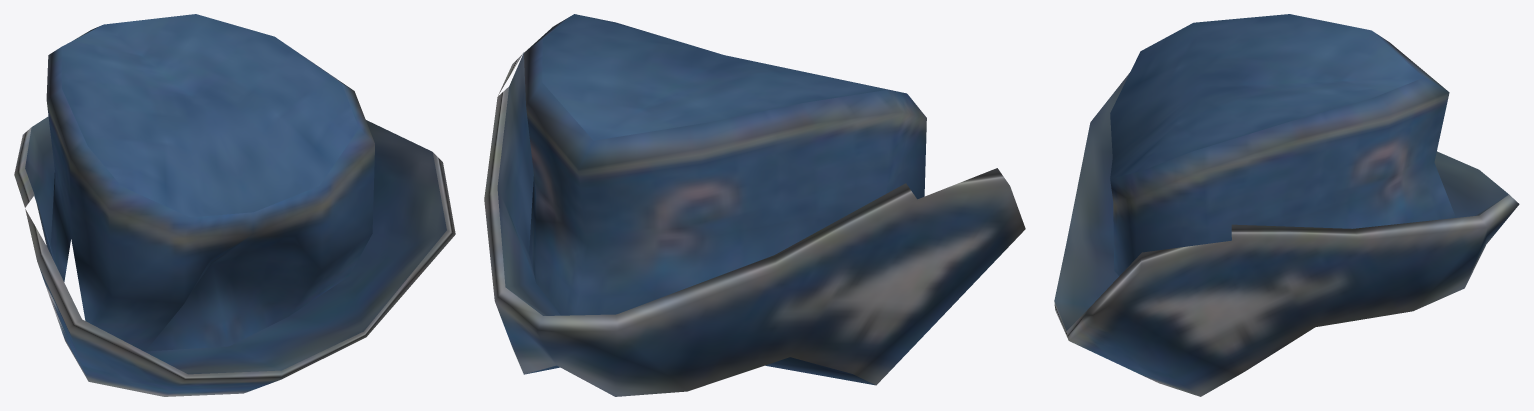
The model's file is pvpHelmet.glb.
3 views of the same model, side by side, from view 1: azimuth 30°, elevation 25°; view 2: azimuth 150°, elevation 25°; view 3: azimuth 270°, elevation 25° (orthographic). The views are drawn at different scales.
Parts seen in each view (by area): view 1: pvpHelmet; view 2: pvpHelmet; view 3: pvpHelmet.
Part boxes in pixels (x1,y1,x2,y2): pvpHelmet: [14, 14, 455, 396]; pvpHelmet: [484, 14, 1025, 396]; pvpHelmet: [1054, 14, 1519, 396].
Size of the model in its own units: 0.4302 by 0.2827 by 0.4122.
Materials: 1 (1 with a texture image).
